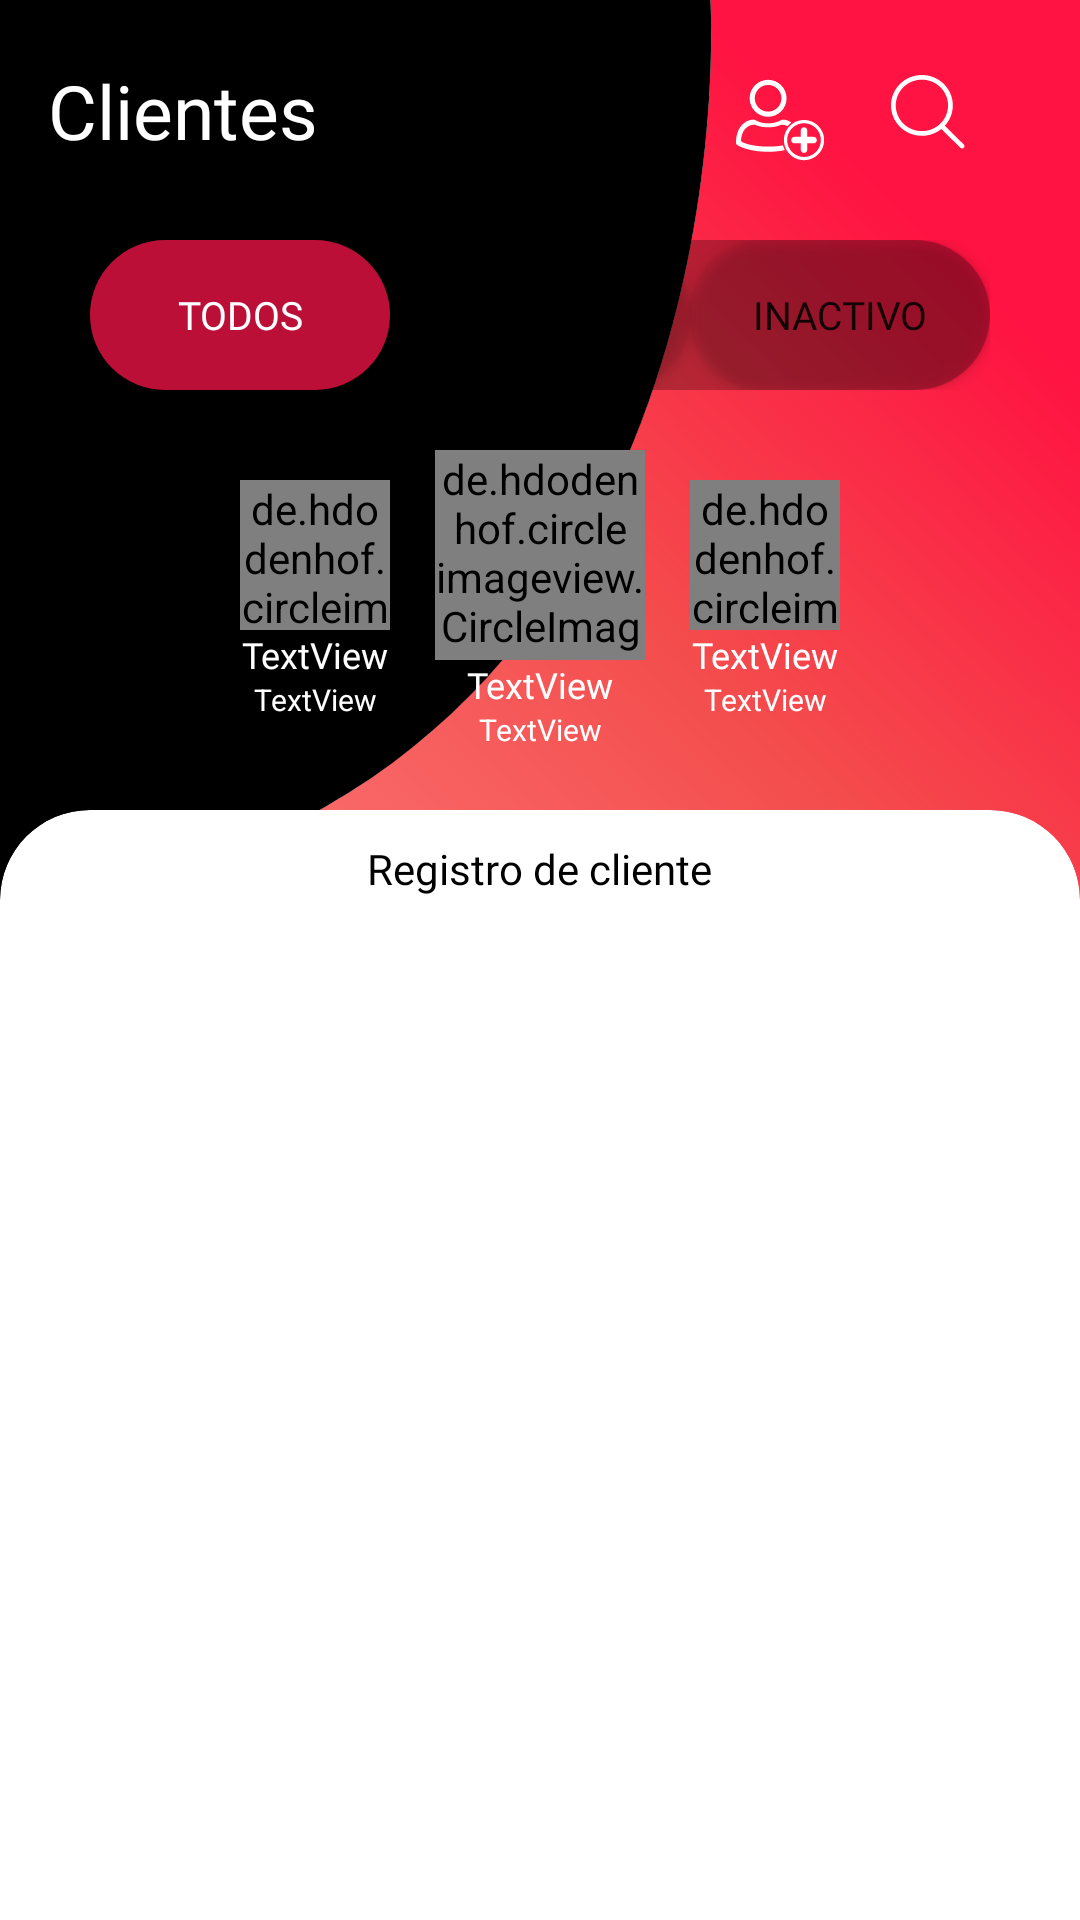

Screen size 1080x1920. Icon name, then its box in pixels as (x1,y1,x2,y2):
buscar: (891,75,965,149)
user: (736,79,824,161)
